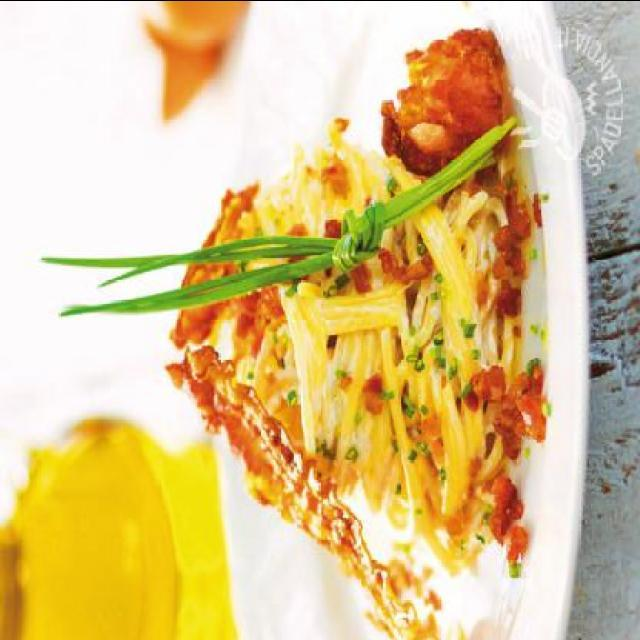Pasta with carbonara sauce: (119, 1, 553, 624)
